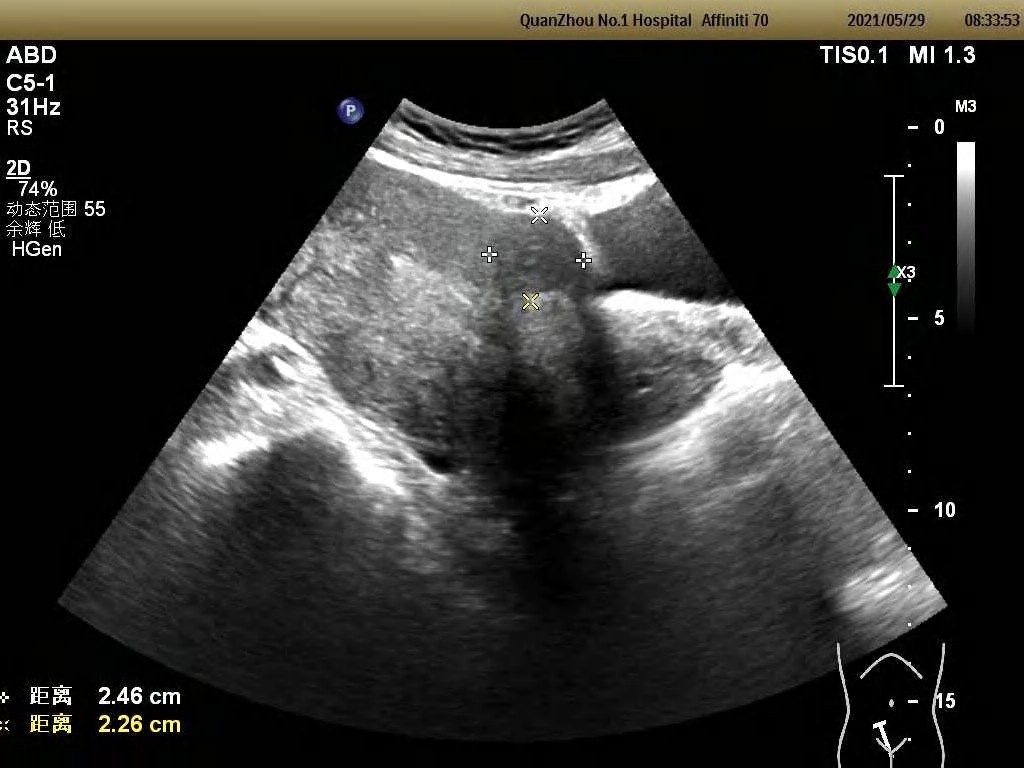肌瘤: (493, 214, 580, 299)
